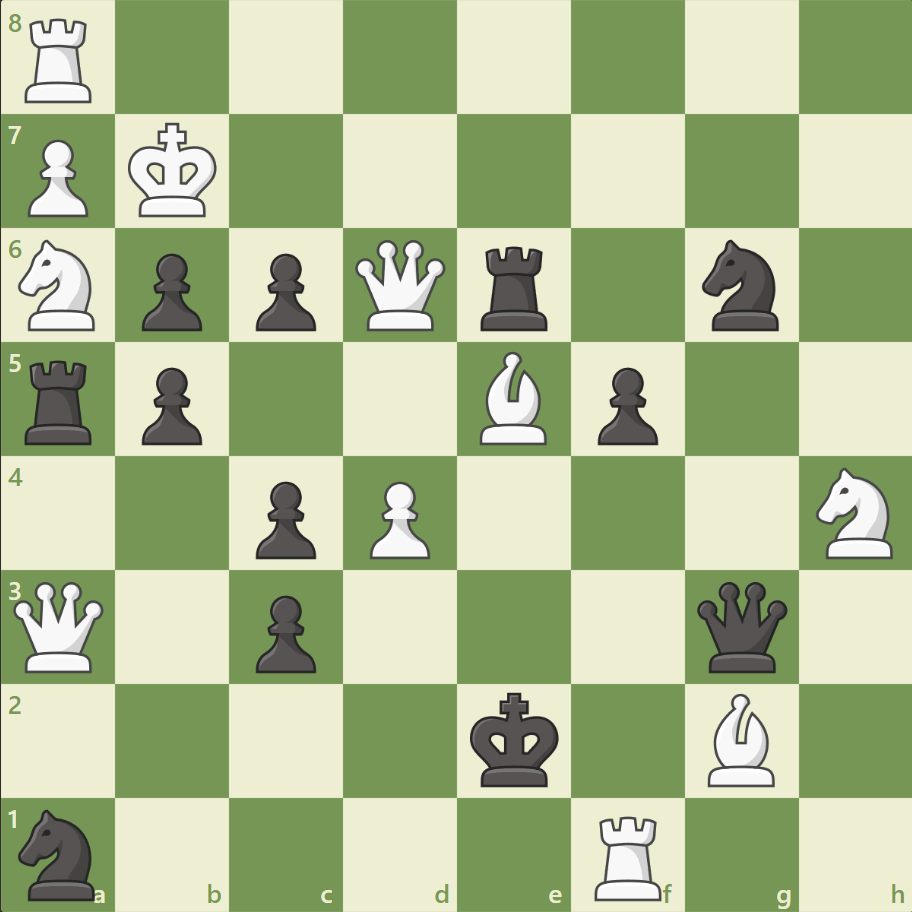B: (698, 687, 782, 790), (471, 347, 555, 449)
K: (124, 117, 224, 225)
N: (11, 234, 108, 337), (806, 461, 903, 564)
P: (20, 132, 95, 223), (361, 473, 435, 564)
Q: (10, 576, 109, 676), (351, 236, 450, 335)
R: (587, 806, 670, 904), (19, 12, 102, 109)
k: (465, 685, 565, 793)
n: (692, 234, 789, 337), (11, 802, 108, 904)
p: (133, 246, 208, 337), (247, 246, 322, 337), (133, 359, 208, 450), (247, 473, 322, 564), (247, 586, 322, 677), (588, 359, 662, 450)
q: (691, 576, 790, 676)
r: (473, 239, 556, 336), (19, 352, 102, 449)
